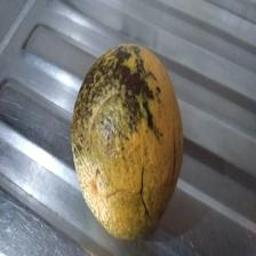Orange Semirotten: (58, 43, 211, 256)
